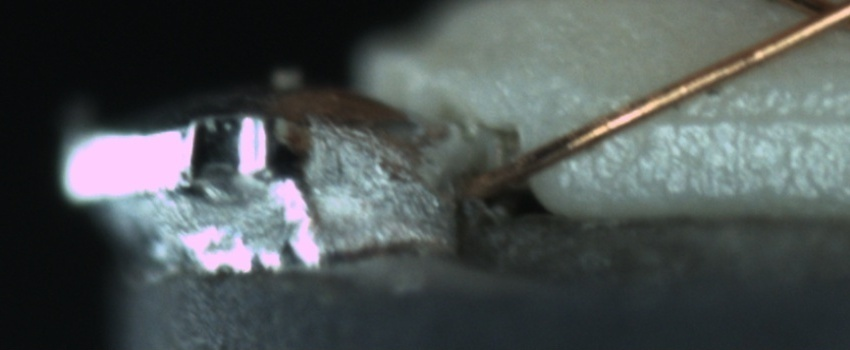CL: (776, 0, 849, 44)
DL: (639, 80, 849, 151)
